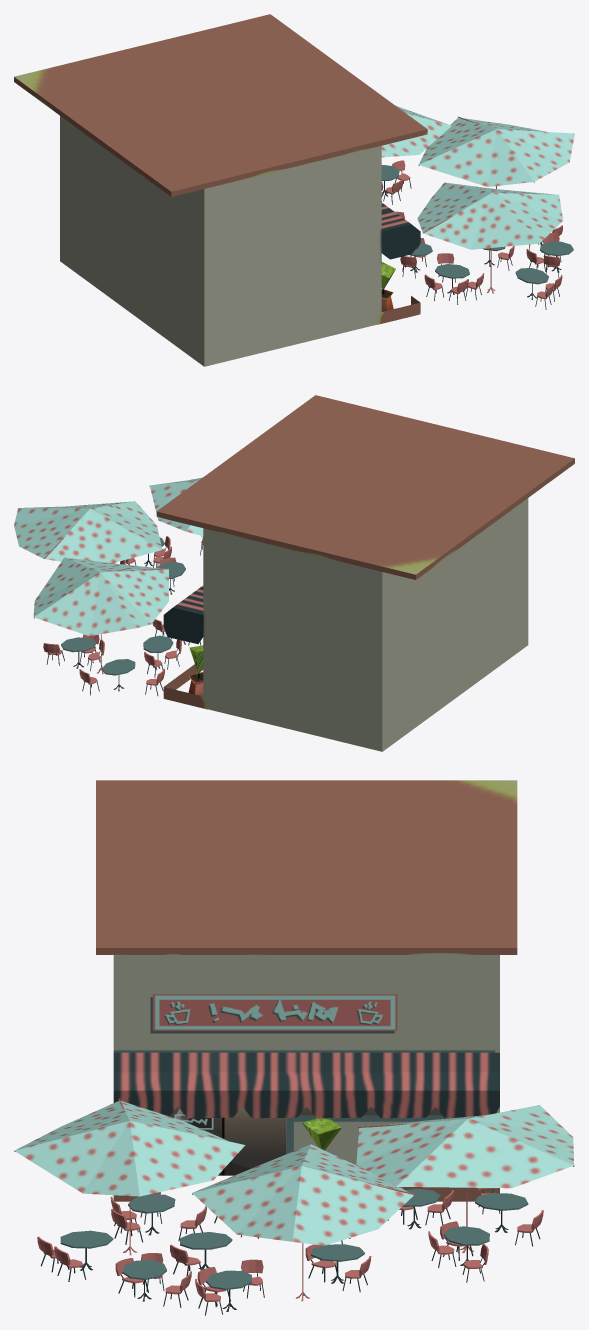
Rendered from cofee shop.fbx.
3 views of the same model, one above another, from view 1: azimuth 30°, elevation 25°; view 2: azimuth 150°, elevation 25°; view 3: azimuth 270°, elevation 25° (orthographic). The views are drawn at different scales.
Visible parts, largest first — view 1: COFFEE, umbrella .003, umbrella .002, umbrella .001, PLANT, table.011; view 2: COFFEE, umbrella .001, umbrella .002, umbrella .003, PLANT.002, table.001, table.004; view 3: COFFEE, umbrella .001, umbrella .002, umbrella .003, table.003, table.001, table.011, table.007, table.006, table.005, table.010, table.004 (+1 smaller).
Part boxes in pixels (<box>): COFFEE: <box>14,14,427,366</box>; umbrella .003: <box>417,182,563,293</box>; umbrella .002: <box>418,116,574,188</box>; umbrella .001: <box>381,106,451,157</box>; PLANT: <box>381,262,395,311</box>; table.011: <box>515,268,548,299</box>; COFFEE: <box>156,395,574,751</box>; umbrella .001: <box>33,557,169,673</box>; umbrella .002: <box>14,501,162,563</box>; umbrella .003: <box>149,477,203,536</box>; PLANT.002: <box>188,645,203,696</box>; table.001: <box>101,659,135,691</box>; table.004: <box>61,637,96,668</box>; COFFEE: <box>96,780,517,1201</box>; umbrella .001: <box>356,1105,574,1253</box>; umbrella .002: <box>192,1144,414,1301</box>; umbrella .003: <box>14,1099,245,1255</box>; table.003: <box>311,1244,364,1283</box>; table.001: <box>475,1193,528,1232</box>; table.011: <box>60,1230,113,1270</box>; table.007: <box>179,1232,232,1269</box>; table.006: <box>128,1194,175,1235</box>; table.005: <box>206,1270,251,1311</box>; table.010: <box>122,1260,166,1301</box>; table.004: <box>443,1226,489,1265</box>.
Size of the model in its own units: 2197 by 838 by 1670.
1 material, 1 textured.
